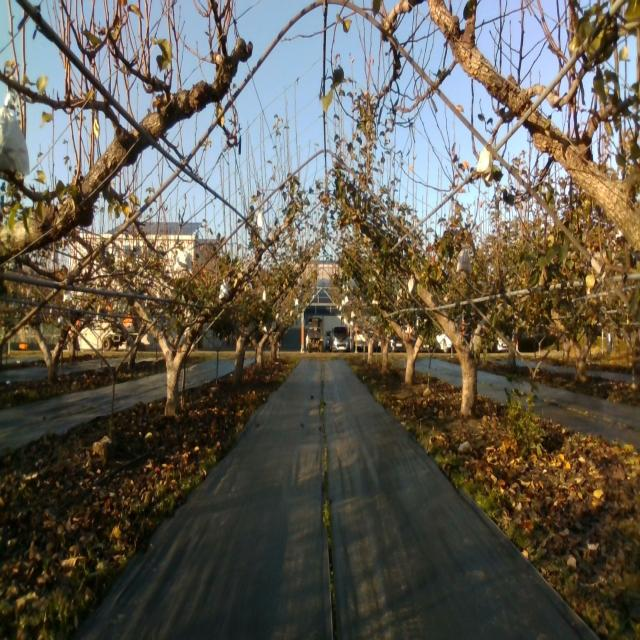pearbags: (0, 93, 30, 176), (477, 147, 492, 187), (174, 248, 193, 274), (456, 249, 470, 276), (219, 280, 229, 298)
